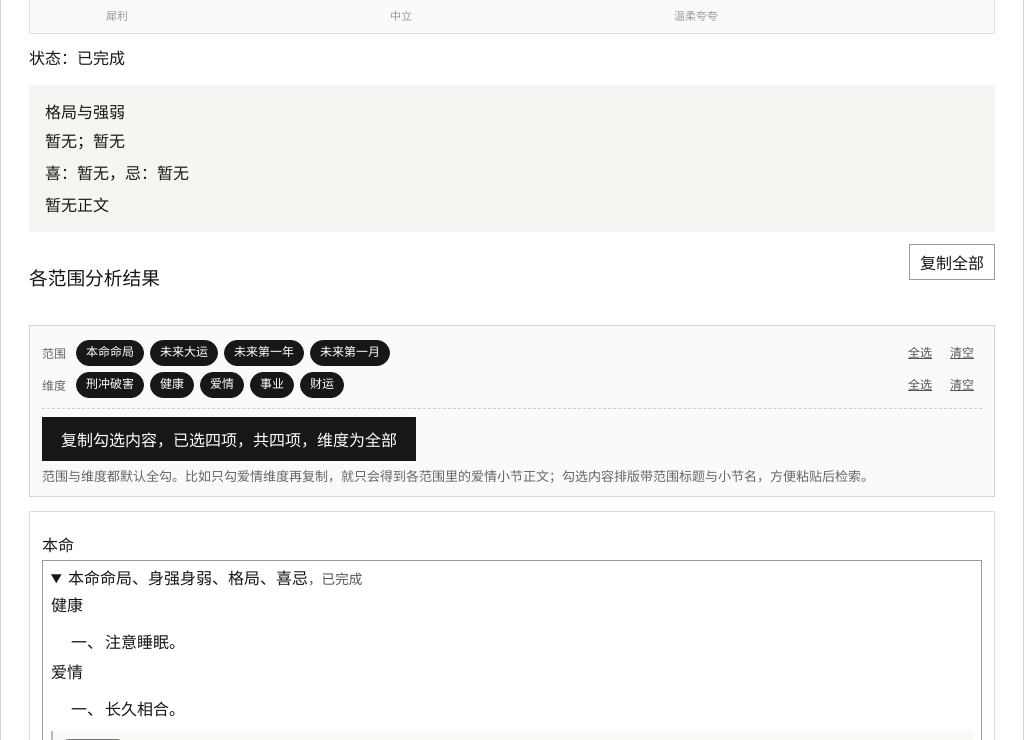
复制回执的项数必须等于正文里真的有几项 › 维度只留一类时，回执同时报项数与维度类数
The width and height of the screenshot is (1024, 740).
(page scrolled)
Expected: the button "复制勾选内容" is shown, [42,417,416,461]
Click the 2nd button "清空" at (962, 384), box [942,372,982,396]
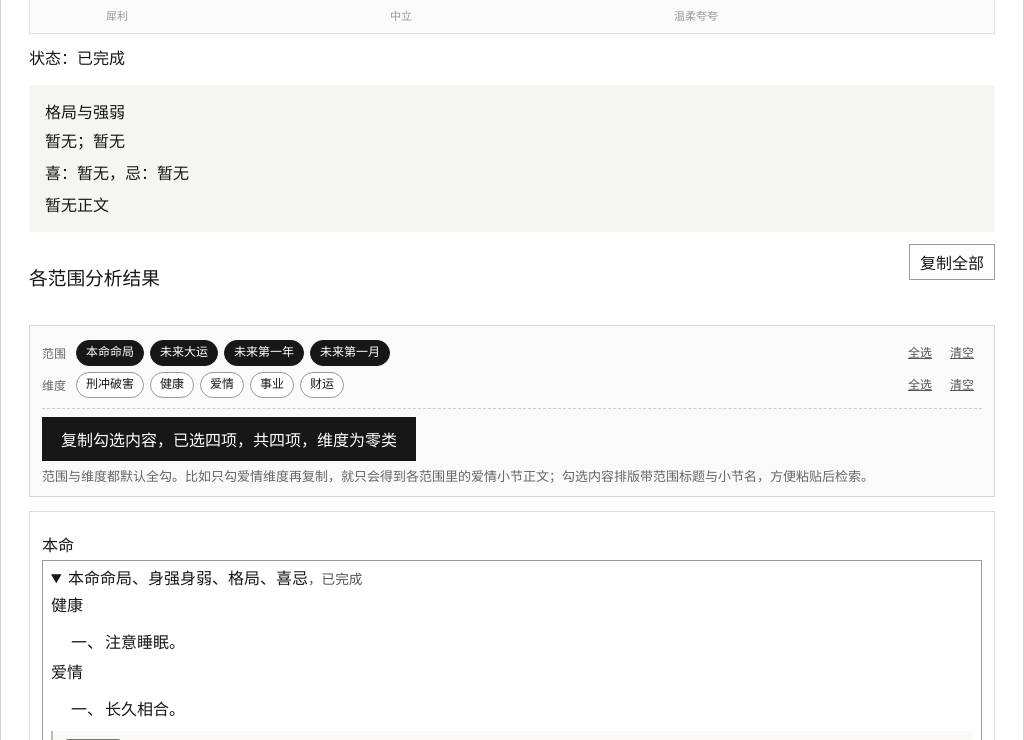
Click the button "健康" at (172, 385), box [150,372,194,398]
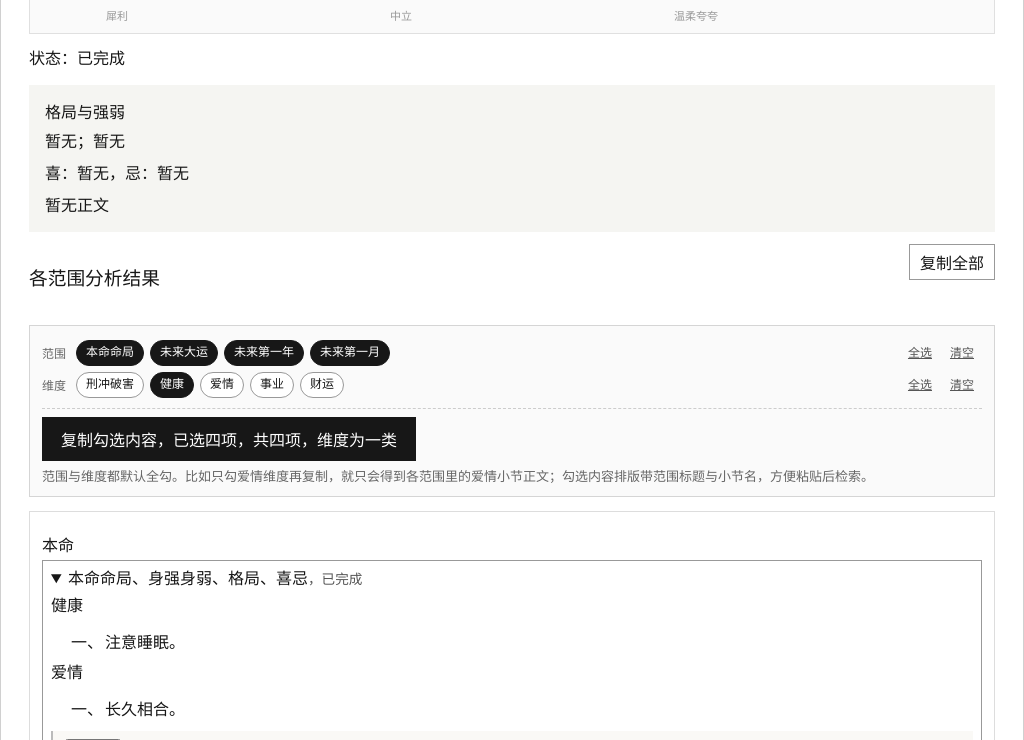
Click the button "复制勾选内容" at (229, 439), box [42,417,416,461]
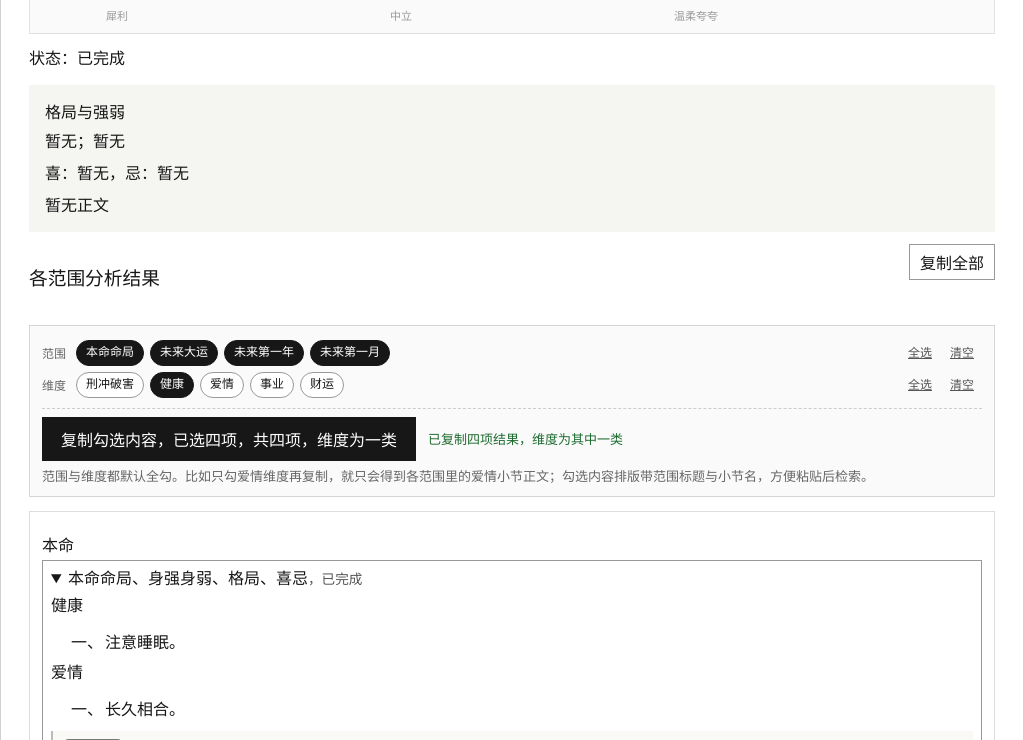
Result: the message "已复制四项结果，维度为其中一类" is shown at [428,429,623,448]
